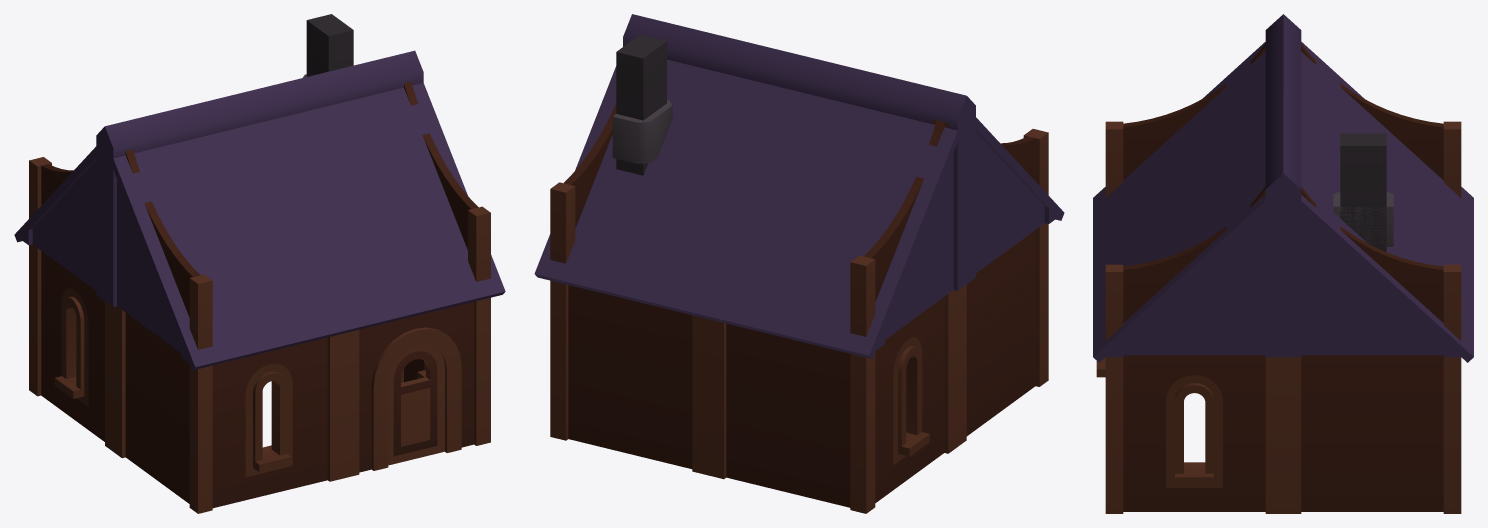
Rendered from hutte-sorciere-2.glb.
3 renders of one model, left to right at view 1: azimuth 30°, elevation 25°; view 2: azimuth 150°, elevation 25°; view 3: azimuth 270°, elevation 25°, orthographic. The views are drawn at different scales.
Parts seen in each view (by area): view 1: roof-high, wall-wood-window-round; view 2: roof-high, wall-wood-window-round; view 3: roof-high, wall-wood-window-round.
Boxes of the visible parts, x1,y1,x2,y2 form: roof-high: (14,50,505,370); wall-wood-window-round: (29,14,490,513); roof-high: (534,14,1064,358); wall-wood-window-round: (550,34,1048,513); roof-high: (1093,14,1473,362); wall-wood-window-round: (1096,43,1461,513).
Bounding box in the file's own units: 6.36 × 6.6 × 6.42.
2 materials, 1 textured.
